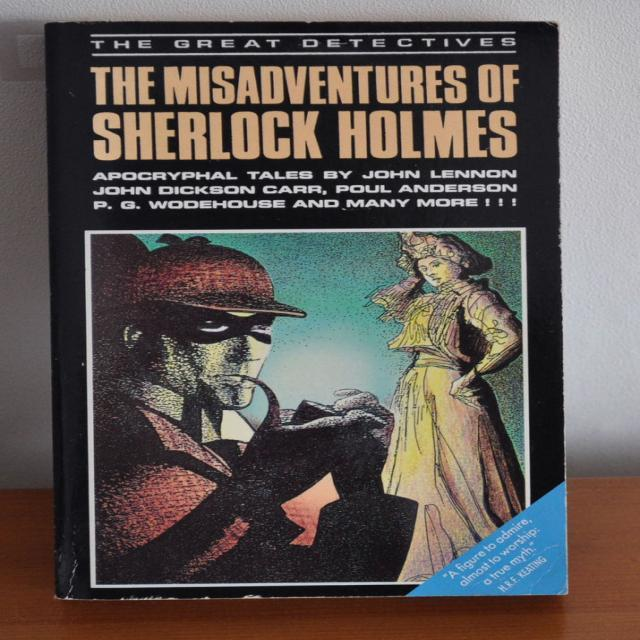book: (40, 16, 575, 602)
